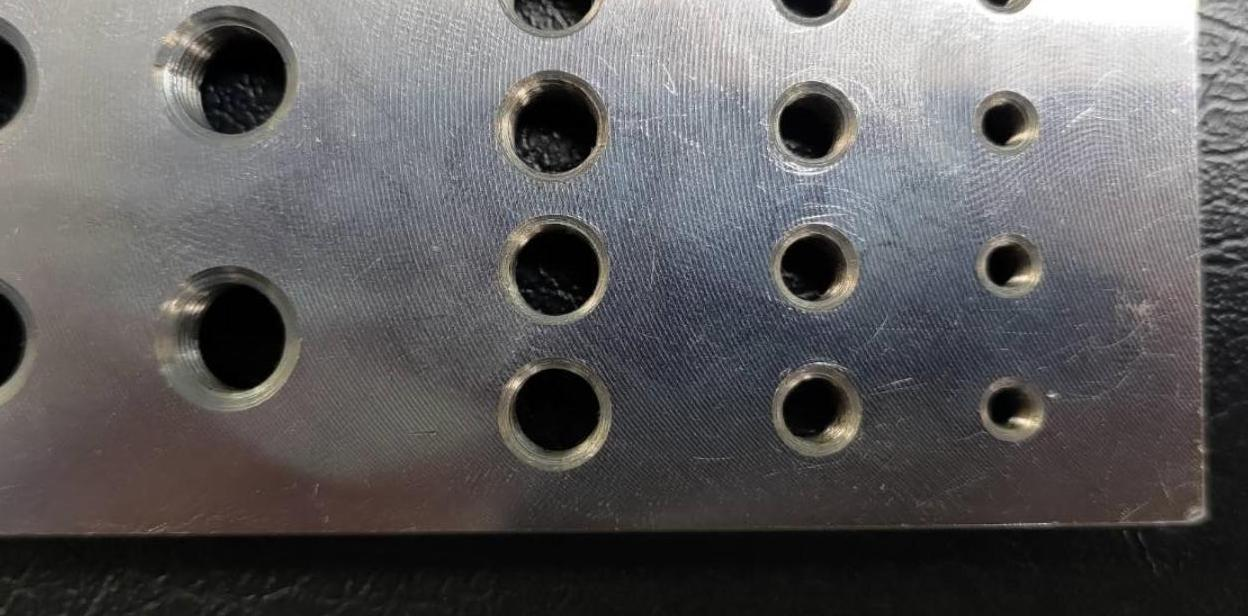hole: (144, 246, 309, 426), (140, 0, 316, 157), (486, 354, 634, 481), (490, 208, 625, 327), (489, 64, 623, 176), (761, 344, 879, 464), (762, 203, 871, 327), (758, 70, 872, 178), (0, 246, 62, 424), (0, 0, 54, 167), (966, 66, 1058, 162), (969, 362, 1051, 455), (969, 230, 1053, 308), (485, 0, 613, 48), (755, 0, 870, 42), (958, 0, 1053, 24)
